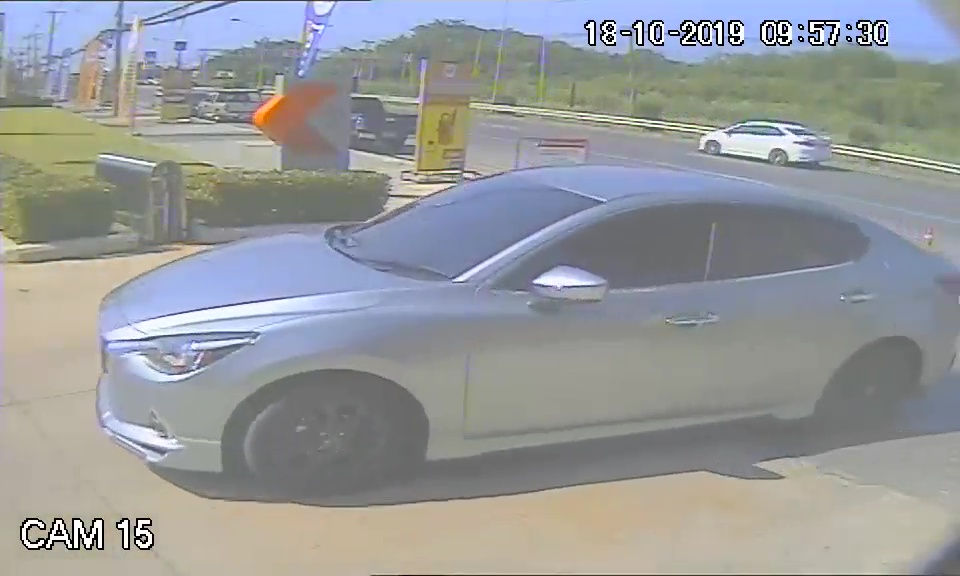sedan: (89, 163, 957, 482)
